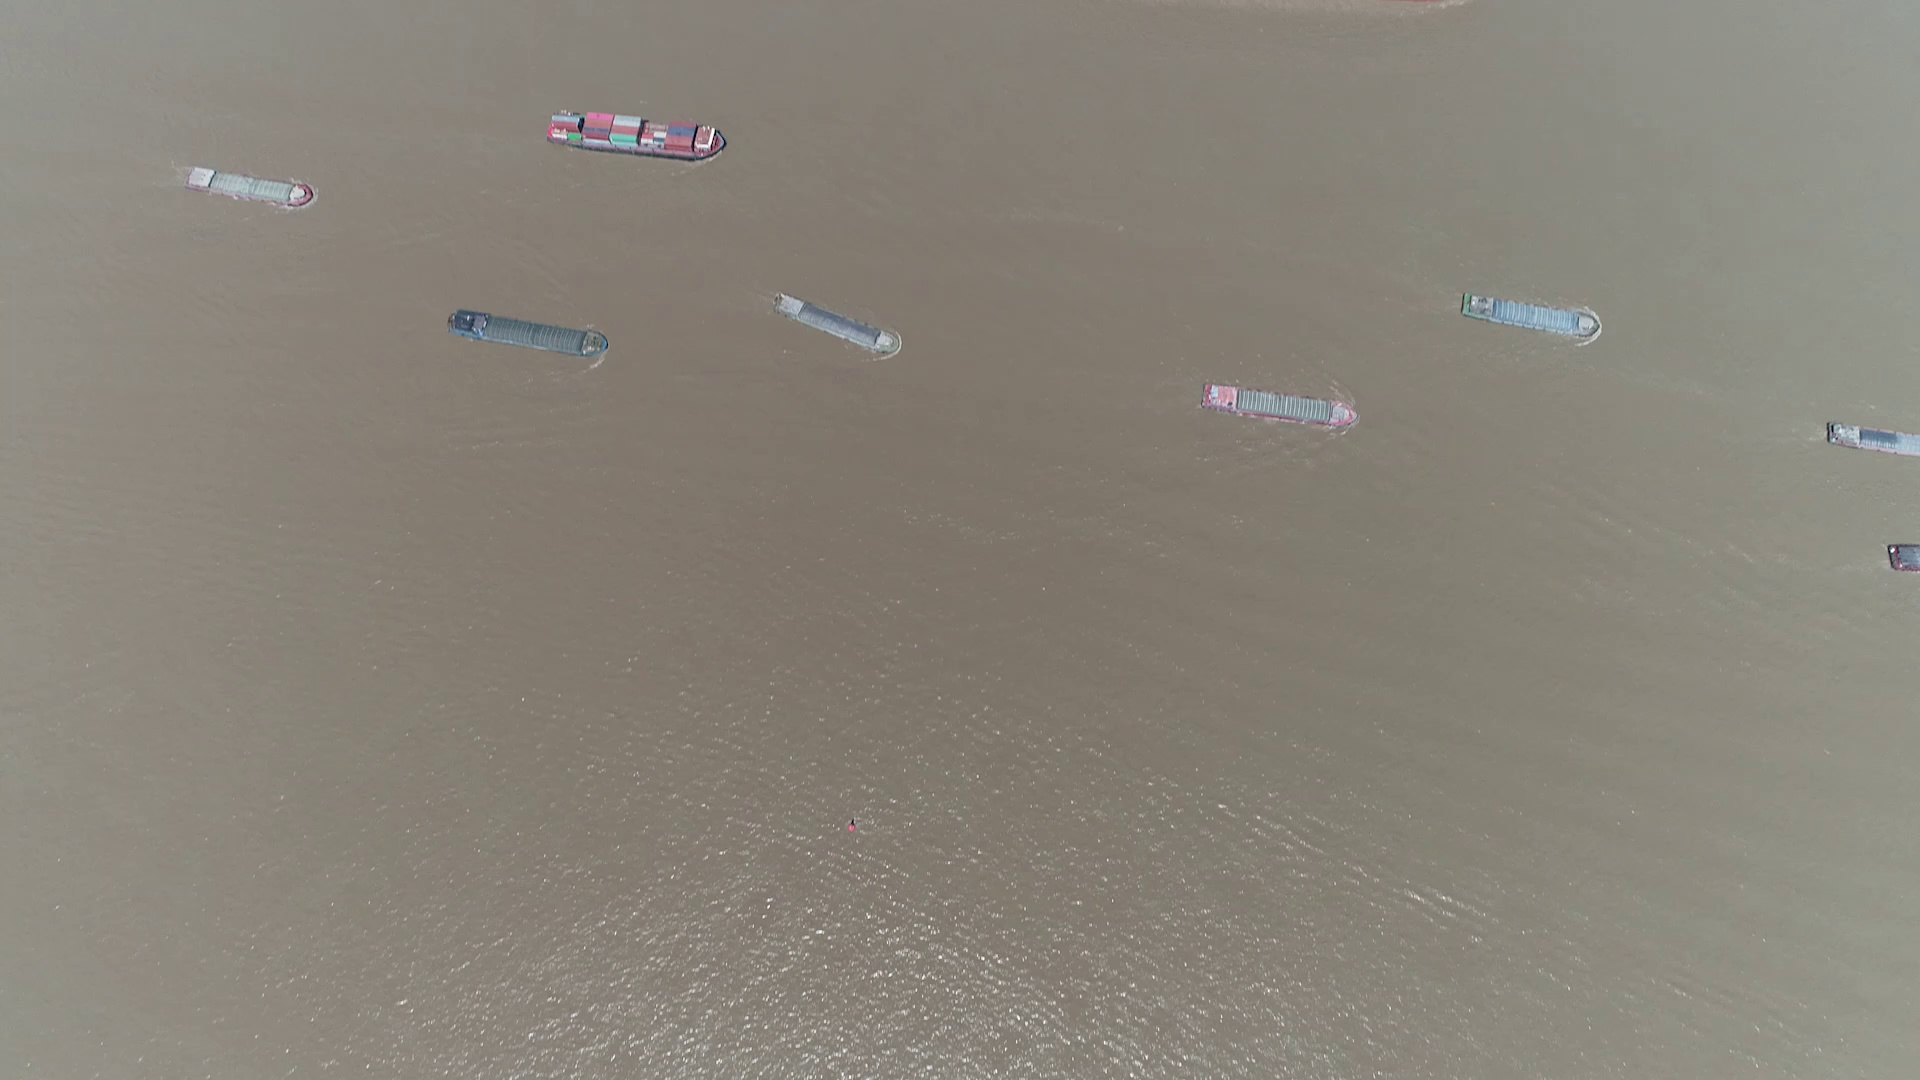ship: (543, 116, 724, 160), (446, 313, 607, 359), (771, 298, 899, 356), (1201, 389, 1354, 426), (1460, 299, 1597, 335), (185, 169, 313, 204), (1828, 426, 1917, 454)
